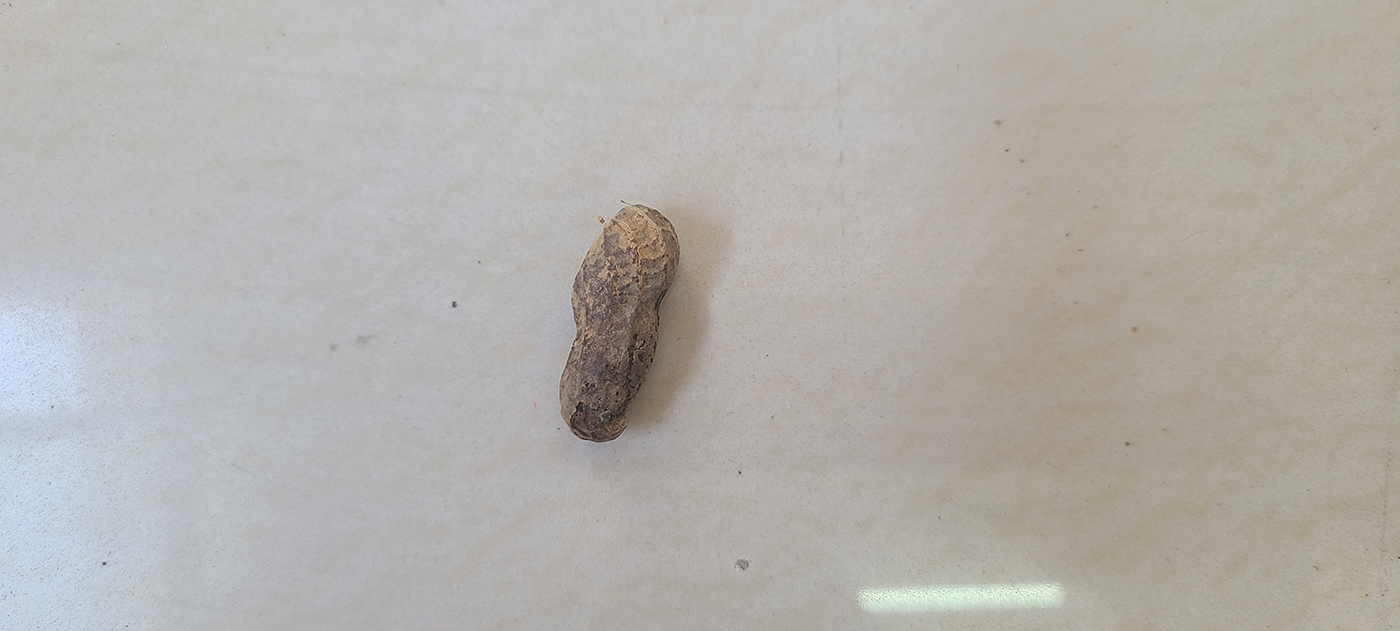l: (556, 205, 682, 440)
